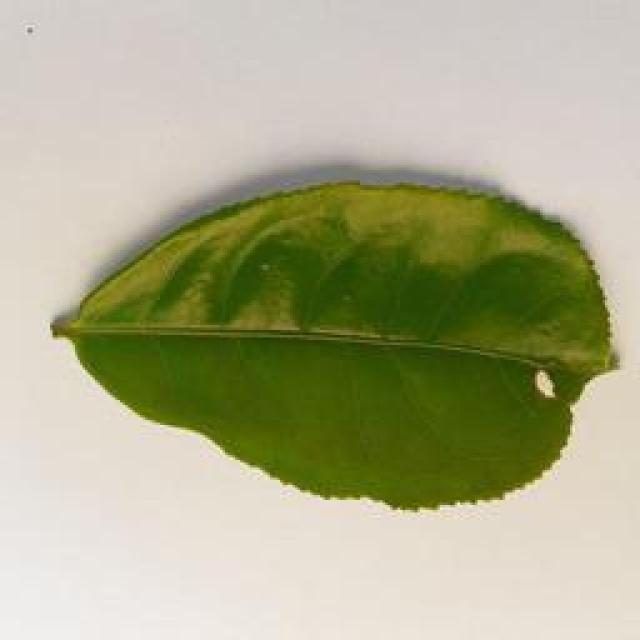Healthy: (57, 166, 630, 519)
